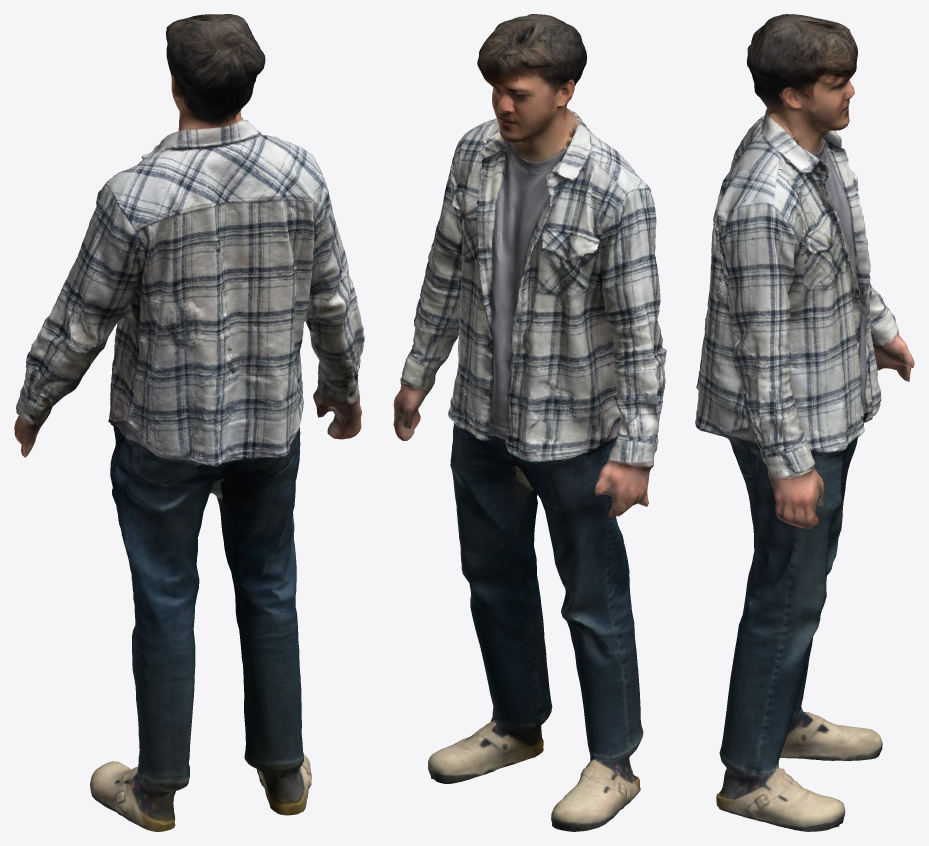
The model's file is scan-02.glb.
3 views of the same model, side by side, from view 1: azimuth 30°, elevation 25°; view 2: azimuth 150°, elevation 25°; view 3: azimuth 270°, elevation 25° (orthographic).
Parts seen in each view (by area): view 1: Mesh_0; view 2: Mesh_0; view 3: Mesh_0.
Boxes of the visible parts, x1,y1,x2,y2 form: Mesh_0: (14,14,364,831); Mesh_0: (393,14,666,831); Mesh_0: (695,14,914,831).
Bounding box in the file's own units: 0.7033 × 1.75 × 0.4553.
Materials: 1 (1 with a texture image).
